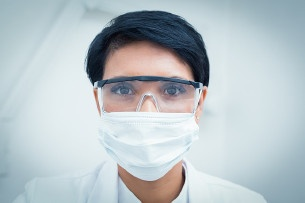Mask: (99, 71, 207, 179)
